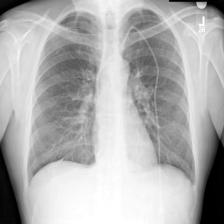normal: (24, 5, 197, 191)
